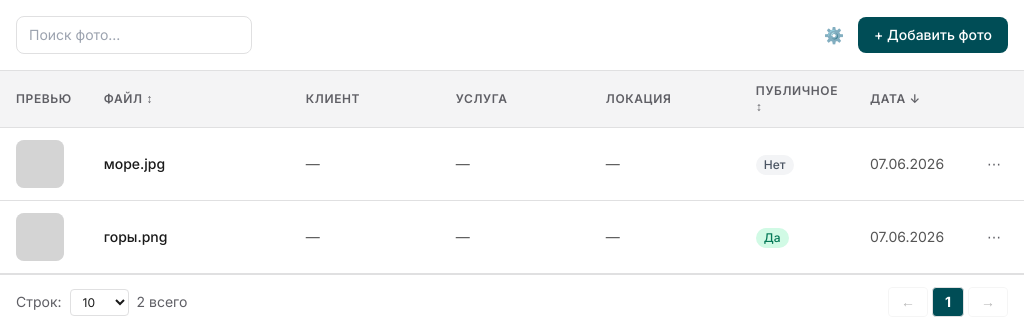
Scenario: PhotosTable delete flow — full pipeline (GH #324 §9.1/§9.2) › §9.1 clean photo: window expiry commits {expected: {}} and refreshes the list
Check: the text "море.jpg" is shown, box x1=104 y1=155 x2=165 y2=172
Click the button "⋯" in the row of "море.jpg": (994, 164) x1=980 y1=150 x2=1008 y2=178
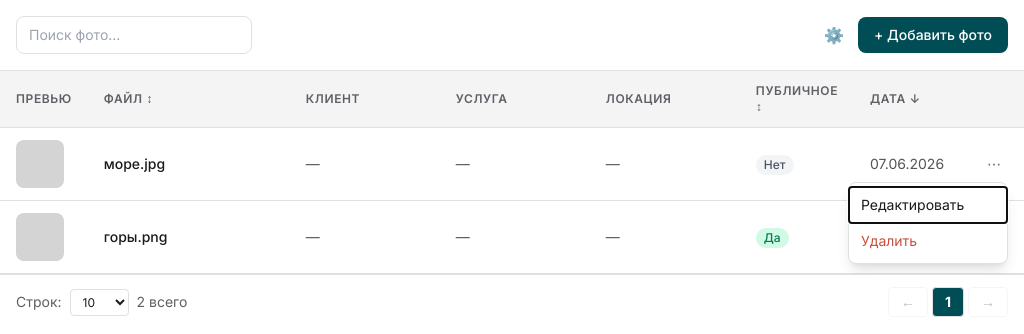
Click the menu item "Удалить": (928, 241) x1=849 y1=223 x2=1007 y2=259
Wait 5000 ms
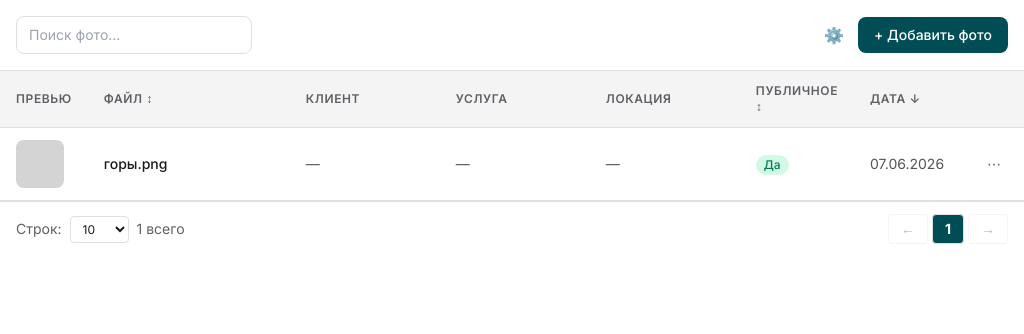
Check: the row with test id "photo-row-p-1" is gone
